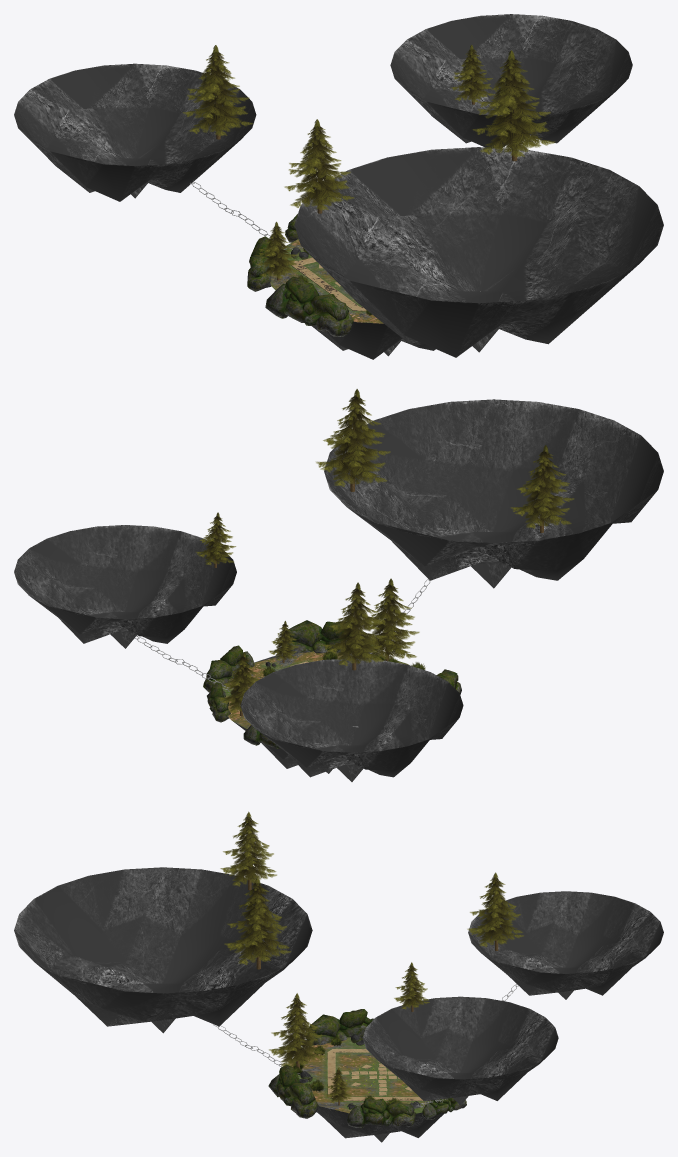
The model's file is floating_island_stage.glb.
3 views of the same model, one above another, from view 1: azimuth 30°, elevation 25°; view 2: azimuth 150°, elevation 25°; view 3: azimuth 270°, elevation 25° (orthographic). The views are drawn at different scales.
Visible parts, largest first — view 1: Lower_base2 (×3), Tree7, Tree6, Tree4, S_6, Lower_base, Base, Tree5, Tree3, S_5, B_02; view 2: Lower_base2 (×3), Tree7, Tree4, Tree6, Tree2, S_7, Base, S_8, Tree5, Tree1, Tree8, S_4; view 3: Lower_base2 (×3), Base, Tree7, Tree4, Tree6, Tree2, Lower_base, S_8, S_7, S_6, Tree5, S_4 (+1 smaller).
Part boxes in pixels (box(x1,y1,x2,y2)): Lower_base2 (×3): box(14, 14, 663, 357); Tree7: box(473, 50, 554, 161); Tree6: box(284, 119, 354, 213); Tree4: box(183, 45, 252, 139); S_6: box(265, 276, 353, 336); Lower_base: box(312, 321, 435, 359); Base: box(270, 239, 383, 323); Tree5: box(451, 44, 494, 104); Tree3: box(256, 221, 299, 280); S_5: box(247, 236, 275, 291); B_02: box(289, 261, 364, 311); Lower_base2 (×3): box(14, 399, 663, 781); Tree7: box(316, 389, 390, 491); Tree4: box(323, 582, 386, 670); Tree6: box(511, 445, 574, 532); Tree2: box(359, 578, 419, 660); S_7: box(287, 620, 376, 654); Base: box(222, 650, 408, 728); S_8: box(203, 645, 254, 692); Tree5: box(196, 512, 235, 567); Tree1: box(219, 652, 259, 716); Tree8: box(269, 621, 298, 662); S_4: box(207, 683, 230, 722); Lower_base2 (×3): box(14, 867, 663, 1105); Base: box(288, 1037, 429, 1113); Tree7: box(224, 877, 290, 969); Tree4: box(467, 872, 523, 950); Tree6: box(220, 811, 276, 890); Tree2: box(269, 993, 325, 1068); Lower_base: box(315, 1044, 443, 1142); S_8: box(347, 1098, 415, 1128); S_7: box(268, 1064, 319, 1118); S_6: box(306, 1009, 373, 1046); Tree5: box(394, 962, 429, 1011); S_4: box(422, 1098, 466, 1119).
Size of the model in its own units: 1.13 by 0.7268 by 1.51.
Materials: 8 (8 with a texture image).
